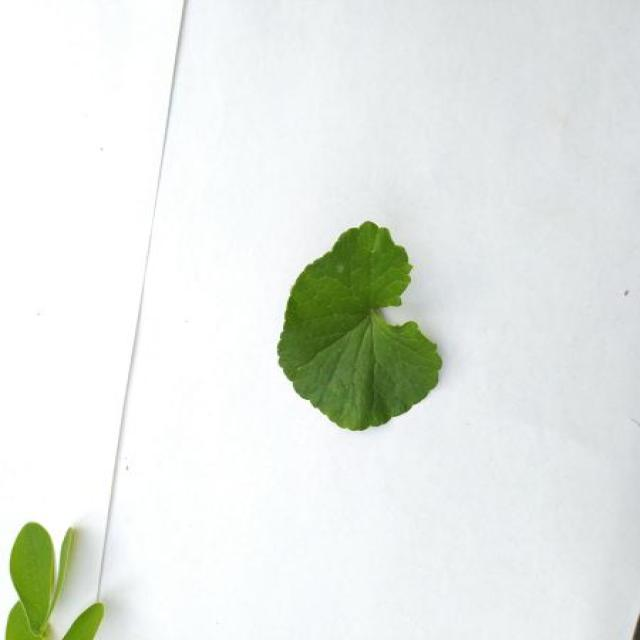bhrami: (278, 221, 442, 429)
